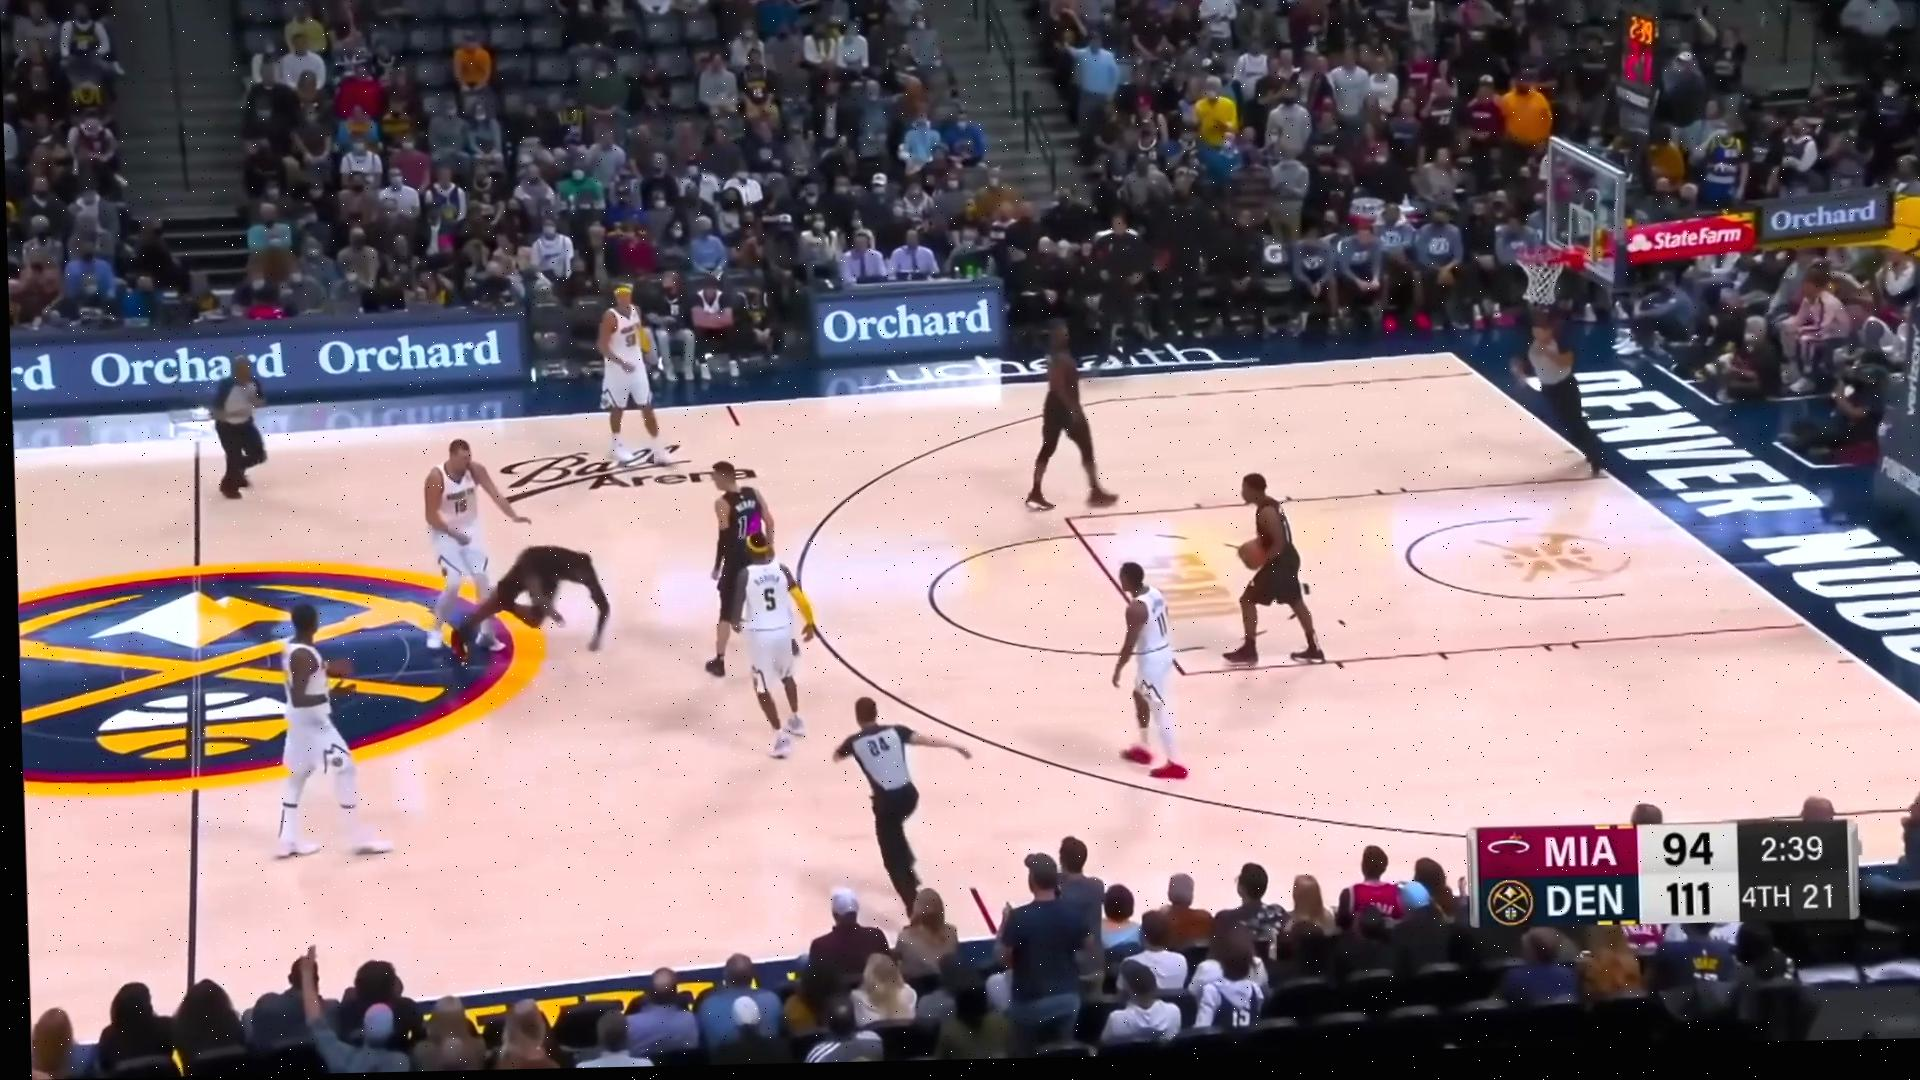foul: (411, 433, 611, 679)
